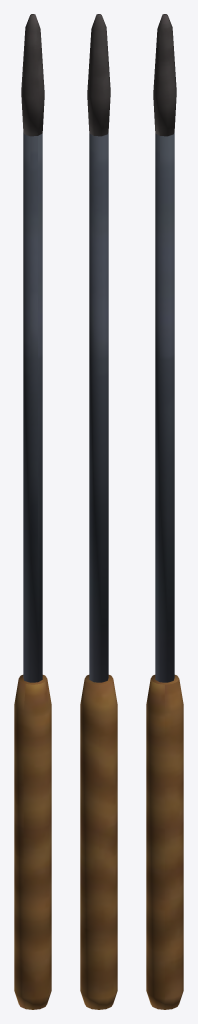
File: gourd-prop-iron-stick.glb
3 views of the same model, side by side, from view 1: azimuth 30°, elevation 25°; view 2: azimuth 150°, elevation 25°; view 3: azimuth 330°, elevation 25° (orthographic).
Visible parts, largest first — view 1: handle, rod, tip; view 2: handle, rod, tip; view 3: handle, rod, tip.
Part boxes in pixels (x1,y1,x2,y2): handle: [14, 675, 51, 1009]; rod: [23, 132, 42, 682]; tip: [21, 14, 44, 136]; handle: [80, 675, 117, 1009]; rod: [89, 132, 108, 682]; tip: [87, 14, 110, 136]; handle: [146, 675, 183, 1009]; rod: [155, 132, 174, 682]; tip: [153, 14, 176, 136].
Bounding box in the file's own units: 0.00489 × 0.1429 × 0.00489.
Materials: 3 (3 with a texture image).
